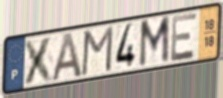4: (113, 20, 138, 71)
A: (49, 30, 84, 83)
E: (170, 10, 199, 64)
M: (137, 14, 171, 70), (80, 24, 115, 78)
X: (22, 33, 56, 86)
